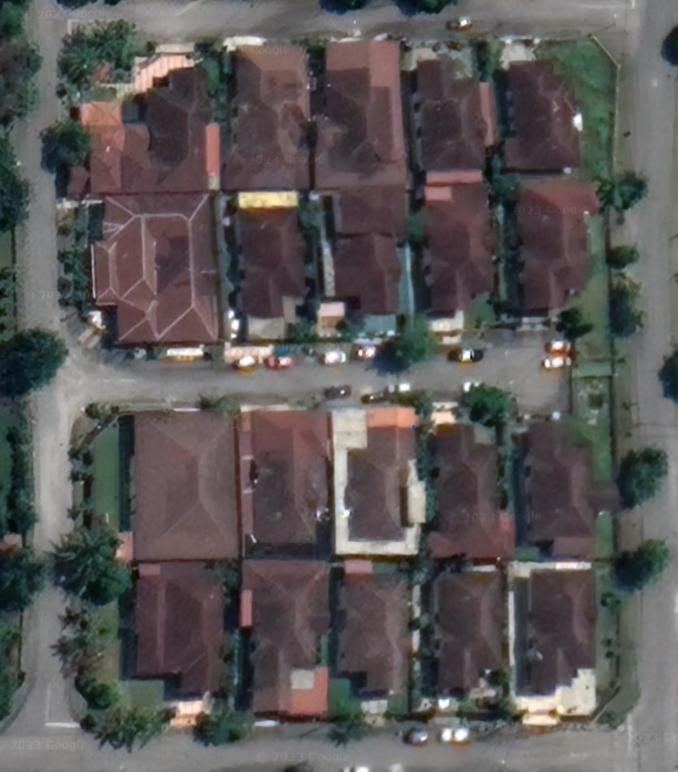building: (49, 48, 224, 200), (80, 193, 225, 349), (110, 406, 243, 565), (314, 185, 423, 344), (513, 412, 627, 563), (314, 29, 416, 193), (331, 399, 433, 562), (235, 556, 334, 721), (506, 559, 601, 729), (506, 169, 609, 325), (123, 563, 233, 707), (419, 405, 517, 565), (413, 181, 505, 351), (221, 39, 317, 194), (241, 401, 333, 553), (223, 191, 312, 348), (409, 43, 501, 182), (425, 564, 513, 703), (492, 51, 591, 174), (333, 557, 413, 707)
